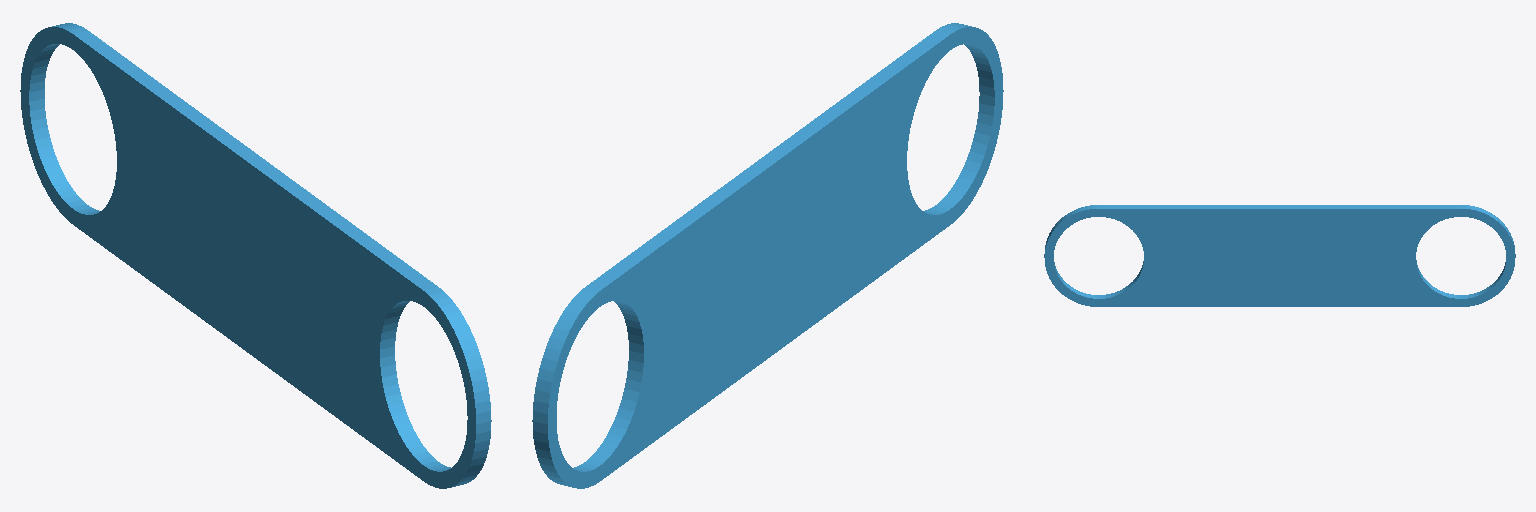
URDF robot description (Double):
<?xml version="1.0" ?>
<robot name="Double">

<link name="base_link">
  <inertial>
    <origin xyz="-0.0024999999999999007 0.45500000000000007 0.0" rpy="0 0 0"/>
    <mass value="0.009346238144429636"/>
    <inertia ixx="3e-06" iyy="1e-06" izz="1e-06" ixy="-0.0" iyz="-0.0" ixz="-0.0"/>
  </inertial>
  <visual>
    <origin xyz="0 0 0" rpy="0 0 0"/>
    <geometry>
      <mesh filename="package:meshes/base_link.stl" scale="0.001 0.001 0.001"/>
    </geometry>
    <material name="silver"/>
  </visual>
  <collision>
    <origin xyz="0 0 0" rpy="0 0 0"/>
    <geometry>
      <mesh filename="package:meshes/base_link.stl" scale="0.001 0.001 0.001"/>
    </geometry>
  </collision>
</link>

<link name="Top_Cycinder_1">
  <inertial>
    <origin xyz="0.0025000000000000937 -0.10000000000047016 5.214780820988583e-18" rpy="0 0 0"/>
    <mass value="0.051886106639119"/>
    <inertia ixx="0.00019" iyy="1.7e-05" izz="0.000173" ixy="-0.0" iyz="-0.0" ixz="-0.0"/>
  </inertial>
  <visual>
    <origin xyz="0.005 -0.455 -0.0" rpy="0 0 0"/>
    <geometry>
      <mesh filename="package://Double_description/meshes/Top_Cycinder_1.stl" scale="0.001 0.001 0.001"/>
    </geometry>
    <material name="silver"/>
  </visual>
  <collision>
    <origin xyz="0.005 -0.455 -0.0" rpy="0 0 0"/>
    <geometry>
      <mesh filename="package://Double_description/meshes/Top_Cycinder_1.stl" scale="0.001 0.001 0.001"/>
    </geometry>
  </collision>
</link>

<joint name="Revolute 1" type="continuous">
  <origin xyz="-0.005 0.455 0.0" rpy="0 0 0"/>
  <parent link="base_link"/>
  <child link="Top_Cycinder_1"/>
  <axis xyz="-1.0 0.0 0.0"/>
</joint>

</robot>

--- Render facts (derived) ---
3 views of the same robot in one strip: view 1: azimuth 30°, elevation 25°; view 2: azimuth 150°, elevation 25°; view 3: azimuth 270°, elevation 25° (orthographic).
Model Double with 2 links and 1 joints (1 continuous), rooted at base_link, posed every joint at zero.
Visible links, largest first — view 1: Top_Cycinder_1; view 2: Top_Cycinder_1; view 3: Top_Cycinder_1.
Link boxes in pixels (x1,y1,x2,y2): Top_Cycinder_1: [20, 23, 491, 488]; Top_Cycinder_1: [532, 23, 1003, 488]; Top_Cycinder_1: [1044, 205, 1515, 306].
Bounding box of the posed robot: 0.005 × 0.26 × 0.06 m (x, y, z).
1 mesh visuals loaded from 1 distinct referenced files (1 binary STL); not drawn: 1 (reference in a form the renderer does not follow; not among the files counted above).
